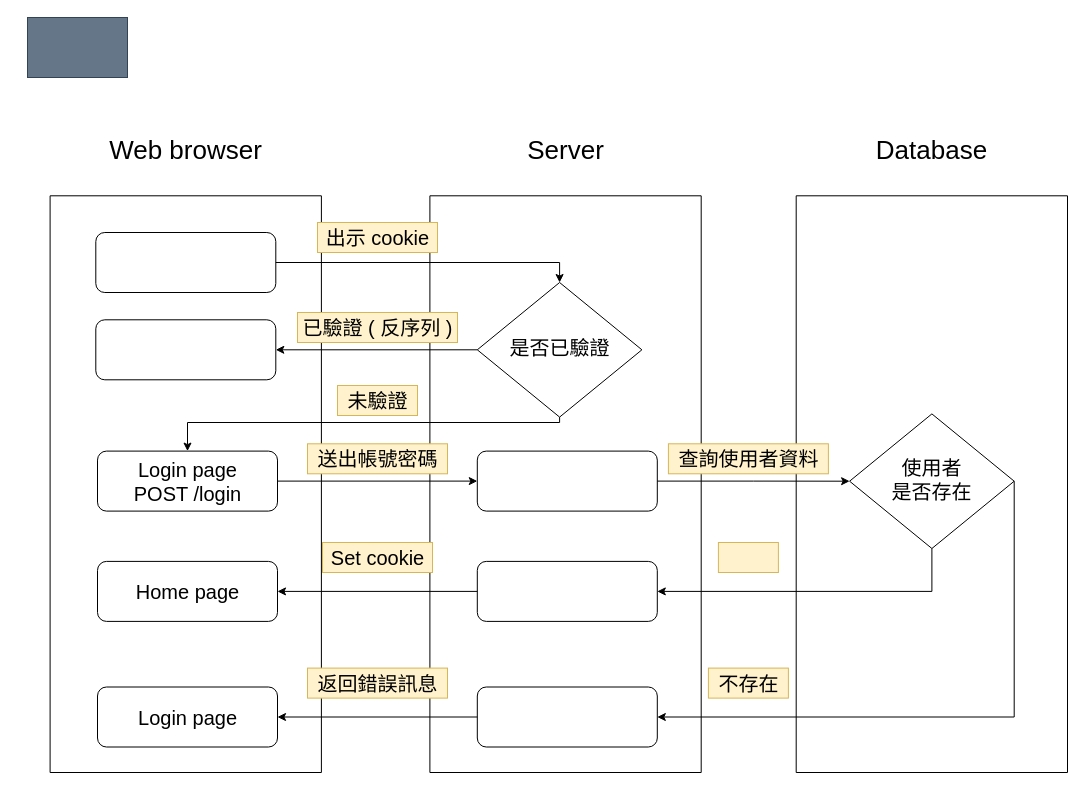
Some shapes in this 1085 by 790 pixel diagram are drawn without their labels. Each missing label, with the centre of its shape:
Any page GET /*: point (185, 262)
passport-strategy 序列失敗: point (566, 716)
passport-strategy 序列至session: point (566, 590)
passport-strategy 處理: point (566, 480)
Render any page: point (185, 349)
存在: point (747, 557)
登入: point (77, 47)
